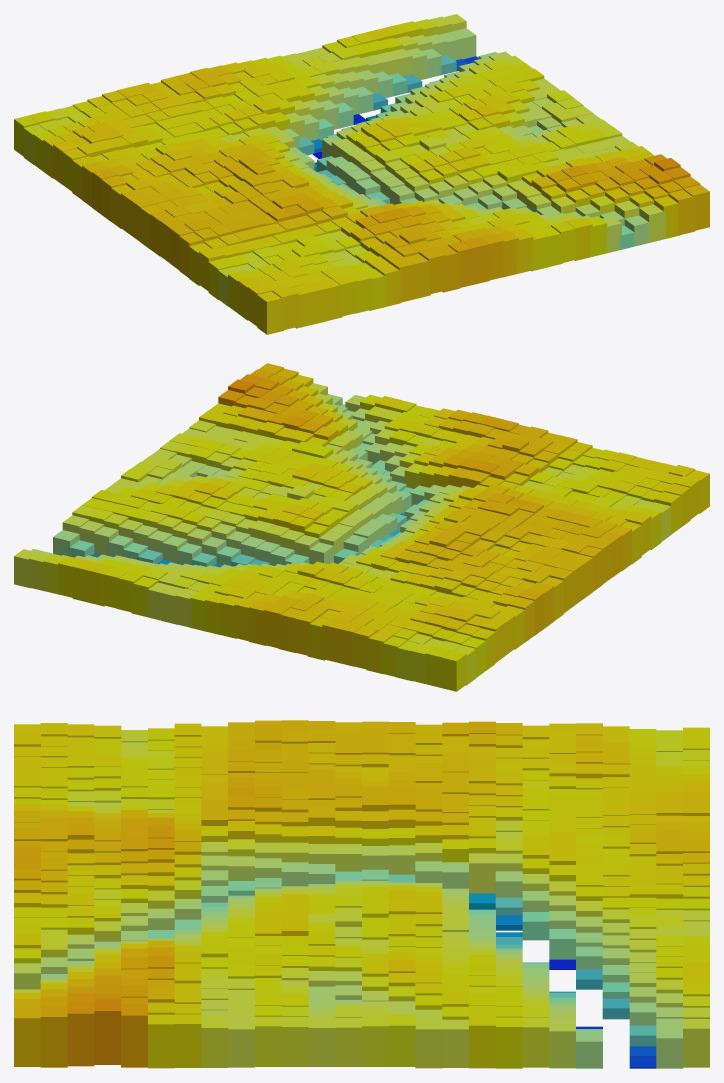
Rendered from population.glb.
The picture shows the model from 3 angles, top to bottom: view 1: azimuth 30°, elevation 25°; view 2: azimuth 150°, elevation 25°; view 3: azimuth 270°, elevation 25°; orthographic projection. The views are drawn at different scales.
Parts seen in each view (by area): view 1: population; view 2: population; view 3: population.
Part boxes in pixels (box(x1,y1,x2,y2)): population: box(14, 14, 709, 334); population: box(14, 363, 709, 691); population: box(14, 720, 709, 1068).
Size of the model in its own units: 2616 by 239 by 2590.
